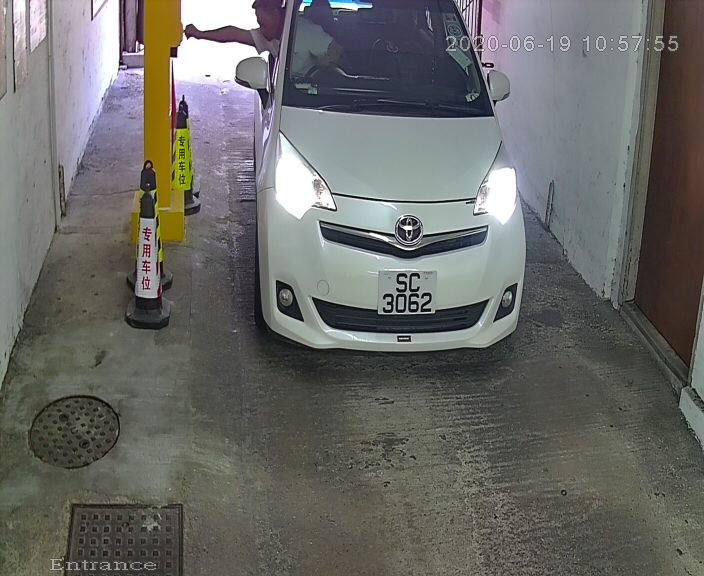privatecar: (244, 3, 530, 346)
